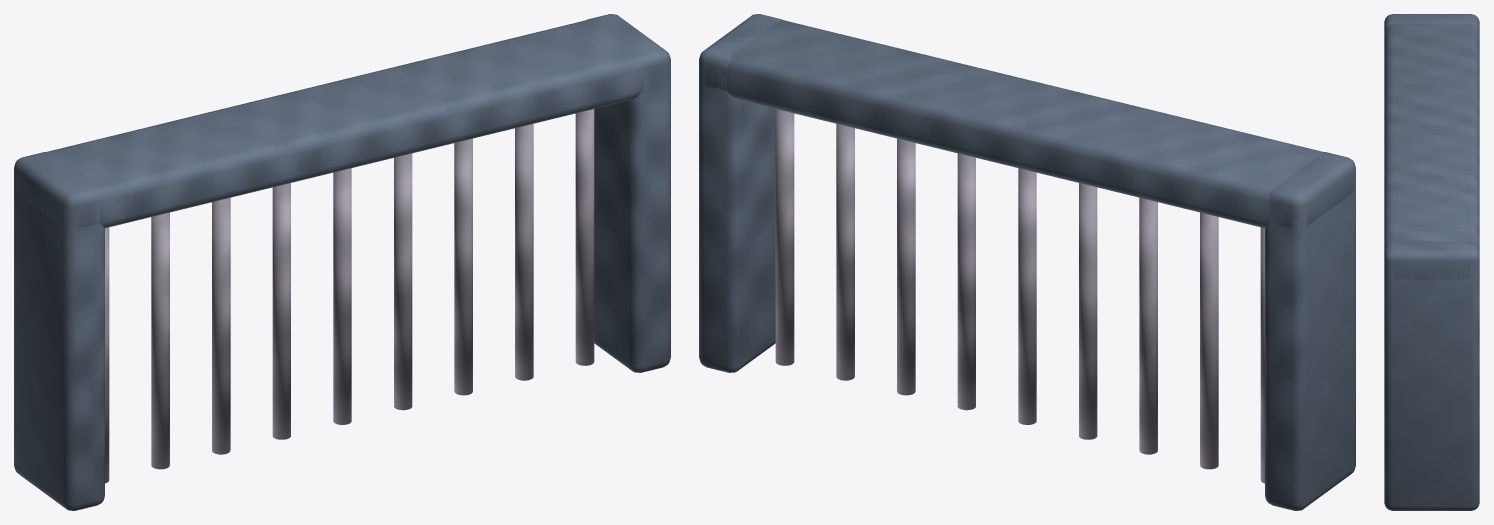
Rendered from gate.glb.
The picture shows the model from 3 angles, left to right: view 1: azimuth 30°, elevation 25°; view 2: azimuth 150°, elevation 25°; view 3: azimuth 270°, elevation 25°; orthographic projection. The views are drawn at different scales.
Parts seen in each view (by area): view 1: gate_frame, gate_bars; view 2: gate_frame, gate_bars; view 3: gate_frame.
Part boxes in pixels (x1,y1,x2,y2): gate_frame: [14, 14, 670, 510]; gate_bars: [105, 109, 594, 483]; gate_frame: [699, 14, 1355, 510]; gate_bars: [775, 109, 1264, 483]; gate_frame: [1384, 14, 1479, 510].
Size of the model in its own units: 6 by 3 by 0.9998.
1 material, 1 textured.
